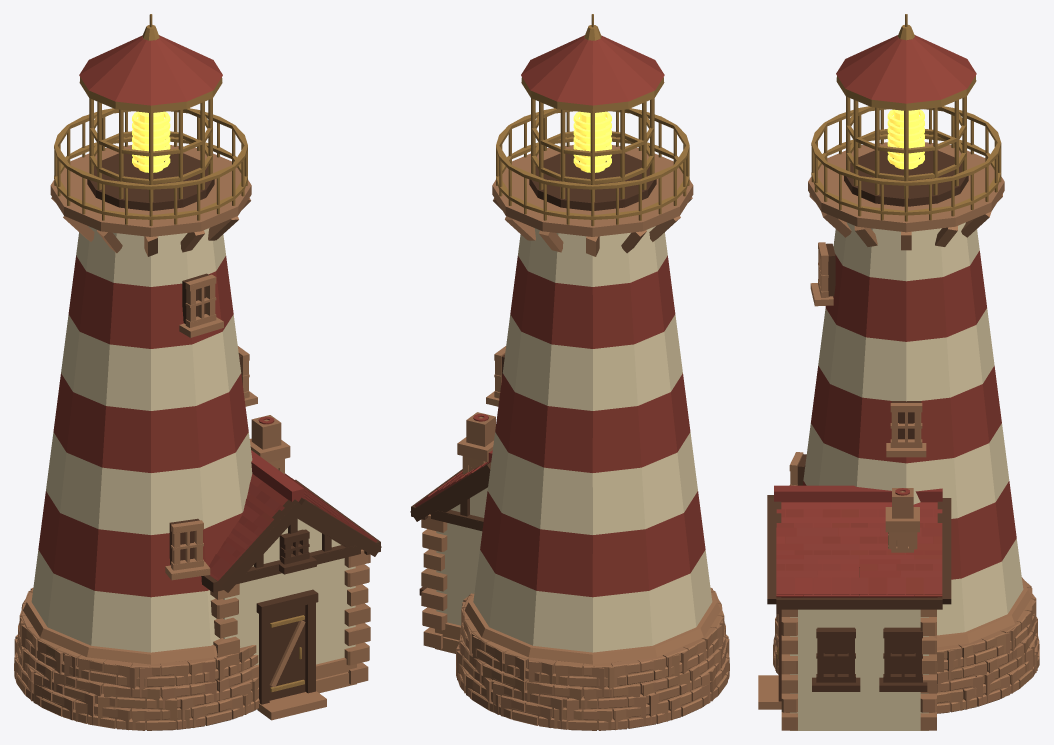
File: building_lighthouse_a.glb
3 views of the same model, side by side, from view 1: azimuth 30°, elevation 25°; view 2: azimuth 150°, elevation 25°; view 3: azimuth 270°, elevation 25° (orthographic). The views are drawn at different scales.
Parts seen in each view (by area): view 1: building_lighthouse_a_LOD0_tower, building_lighthouse_a_LOD1_tower, building_lighthouse_a_LOD2_tower, lighthouse_lantern_beacon; view 2: building_lighthouse_a_LOD0_tower, building_lighthouse_a_LOD2_tower, building_lighthouse_a_LOD1_tower, lighthouse_lantern_beacon; view 3: building_lighthouse_a_LOD0_tower, building_lighthouse_a_LOD2_tower, building_lighthouse_a_LOD1_tower, lighthouse_lantern_beacon.
Part boxes in pixels (x1=…): building_lighthouse_a_LOD0_tower: x1=14, y1=14, x2=379, y2=730; building_lighthouse_a_LOD1_tower: x1=14, y1=14, x2=380, y2=730; building_lighthouse_a_LOD2_tower: x1=14, y1=27, x2=381, y2=729; lighthouse_lantern_beacon: x1=132, y1=111, x2=170, y2=172; building_lighthouse_a_LOD0_tower: x1=411, y1=14, x2=729, y2=730; building_lighthouse_a_LOD2_tower: x1=414, y1=15, x2=729, y2=729; building_lighthouse_a_LOD1_tower: x1=410, y1=14, x2=729, y2=730; lighthouse_lantern_beacon: x1=573, y1=111, x2=611, y2=172; building_lighthouse_a_LOD0_tower: x1=768, y1=14, x2=1039, y2=730; building_lighthouse_a_LOD2_tower: x1=767, y1=26, x2=1036, y2=730; building_lighthouse_a_LOD1_tower: x1=758, y1=14, x2=1037, y2=717; lighthouse_lantern_beacon: x1=887, y1=109, x2=924, y2=169.
Bounding box in the file's own units: 6.03 × 13.53 × 5.33.
